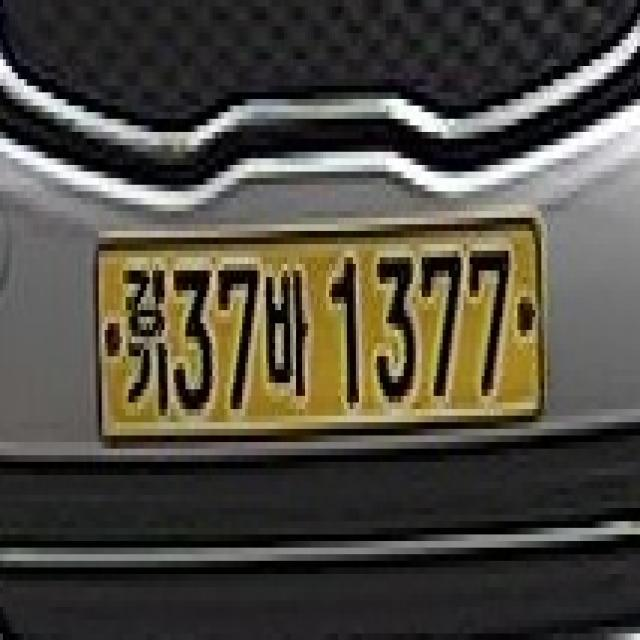plat: (95, 207, 547, 437)
